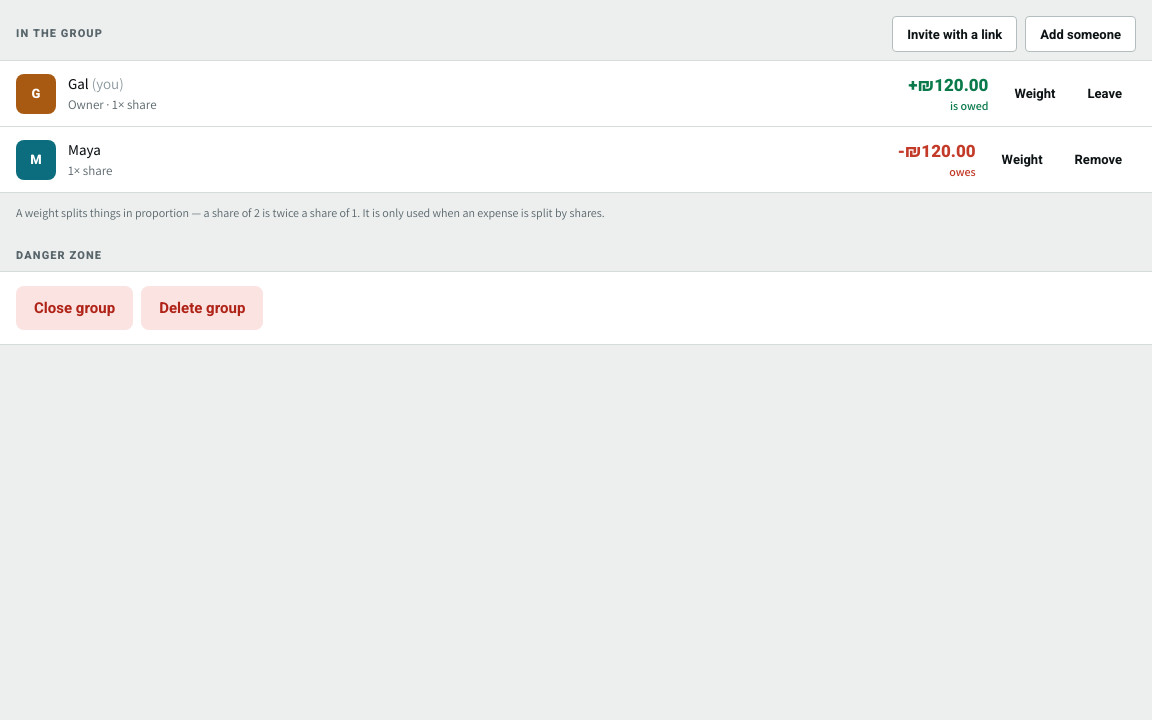
Test case: the danger zone › says so plainly when nobody owes anything
Step 1. Click the button "Close group" → point(75, 308), box [16, 286, 133, 330]
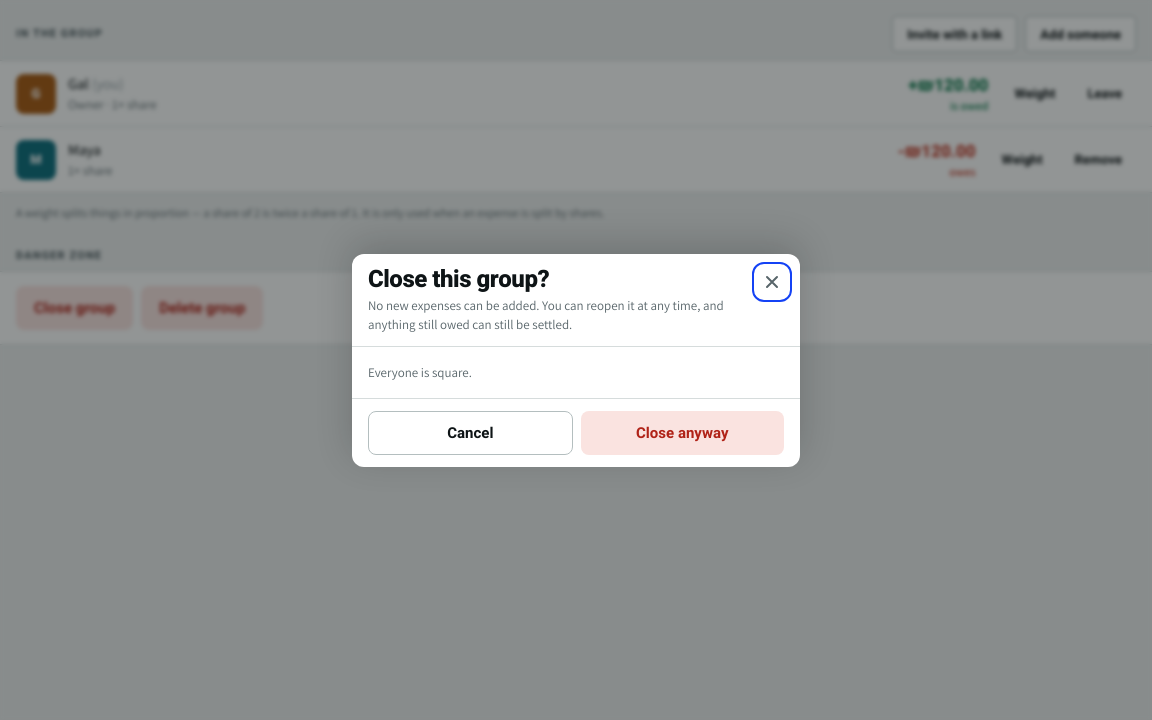
Result: the text "Everyone is square." is shown at [368, 364, 472, 380]
